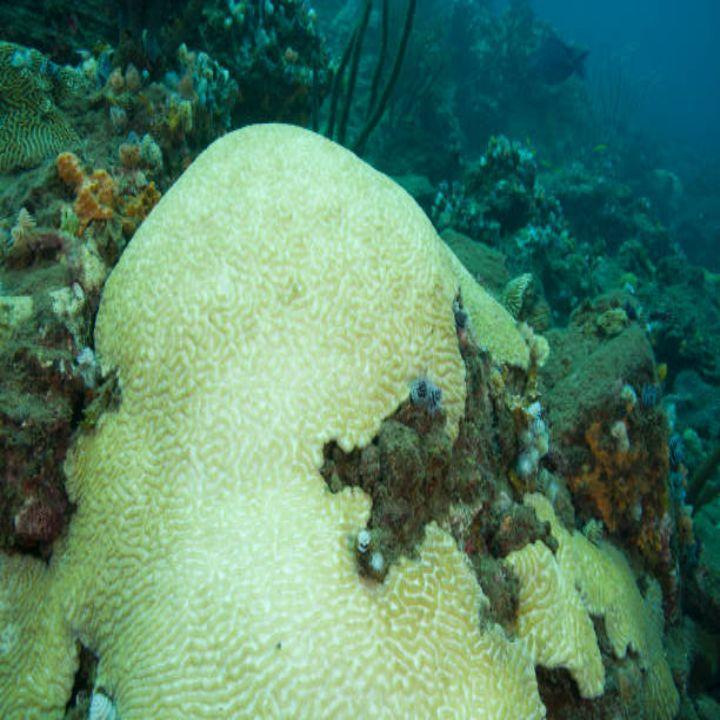Bleached-disease: (1, 124, 578, 720)
